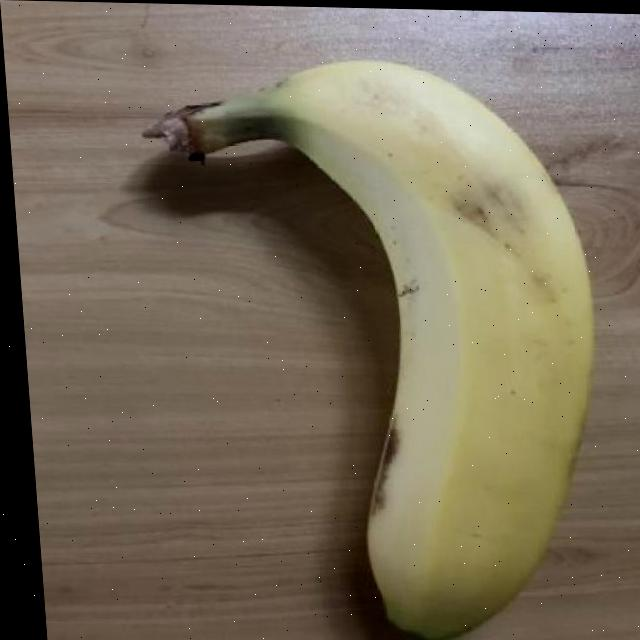banana: (139, 50, 640, 640)
